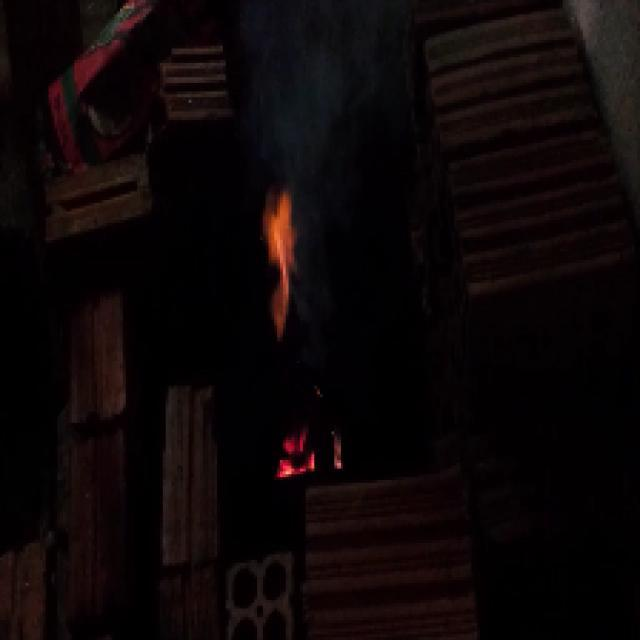Fire: (260, 195, 292, 338)
Smoke: (251, 11, 361, 179)
